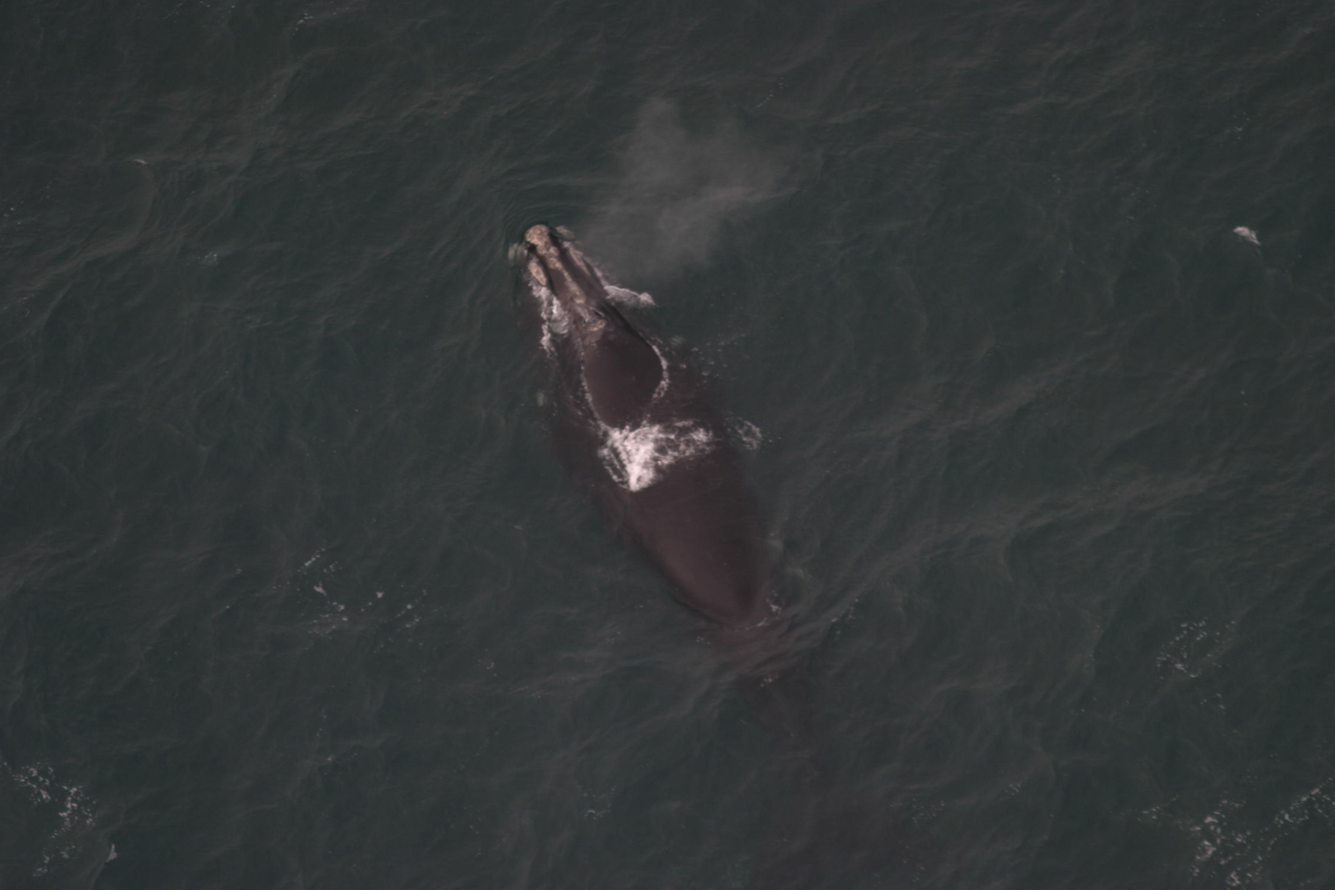whale: (498, 216, 938, 864)
